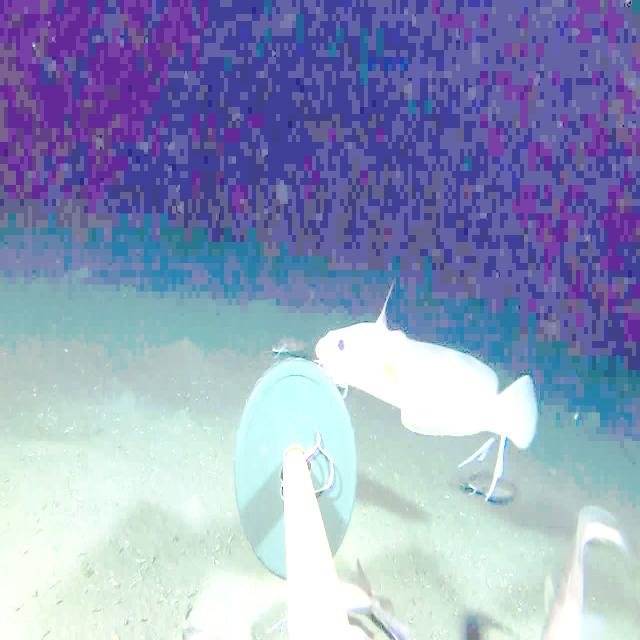fish: (308, 300, 549, 459), (537, 485, 627, 640), (268, 574, 419, 640), (456, 464, 528, 512), (264, 326, 321, 373)
pole: (232, 360, 360, 639)
